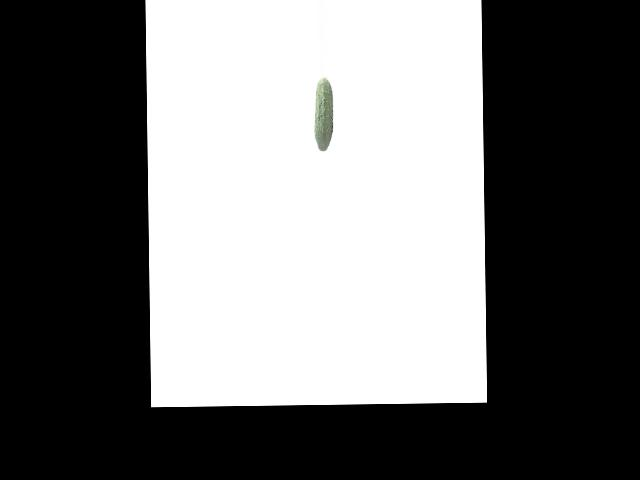cucumber: (314, 77, 333, 151)
